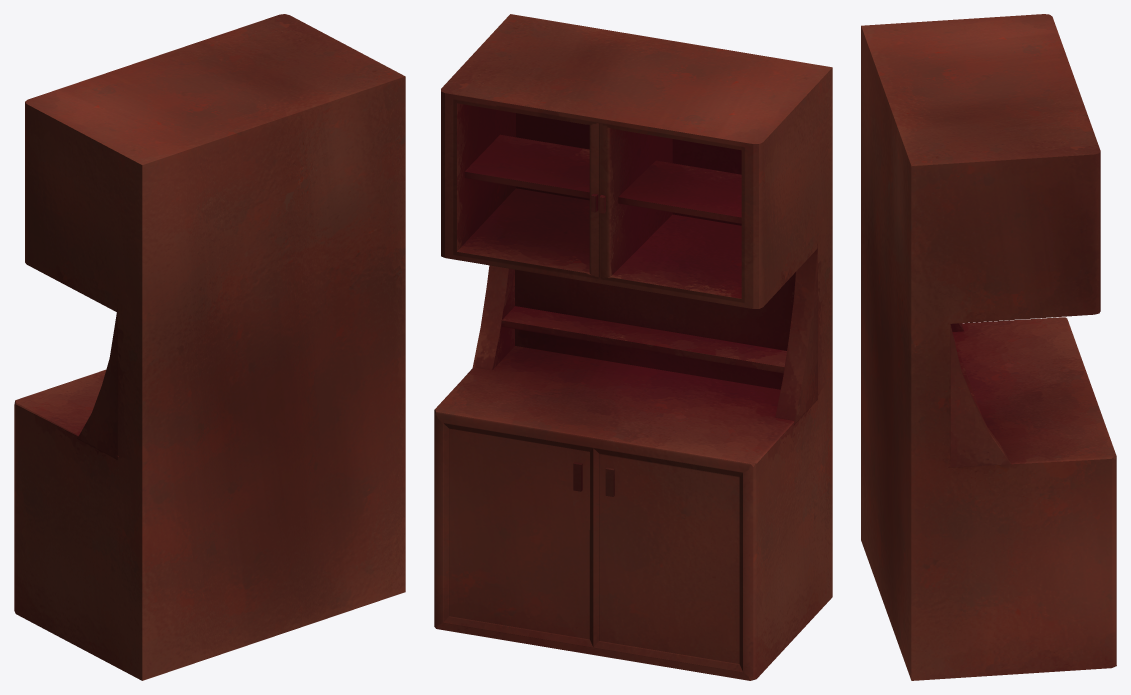
The model's file is 12_Lv1 Unit.fbx.
3 views of the same model, side by side, from view 1: azimuth 30°, elevation 25°; view 2: azimuth 150°, elevation 25°; view 3: azimuth 270°, elevation 25° (orthographic). The views are drawn at different scales.
Parts seen in each view (by area): view 1: Unit; view 2: Unit; view 3: Unit.
Boxes of the visible parts, x1,y1,x2,y2 form: Unit: (14,14,405,680); Unit: (434,14,832,680); Unit: (861,14,1116,680).
Bounding box in the file's own units: 3302 × 5170 × 2328.
